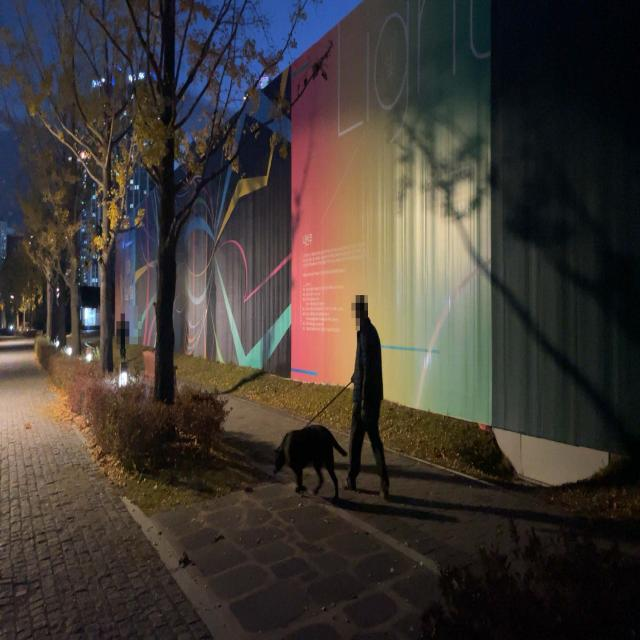Leashed_Dog: (270, 372, 364, 502)
